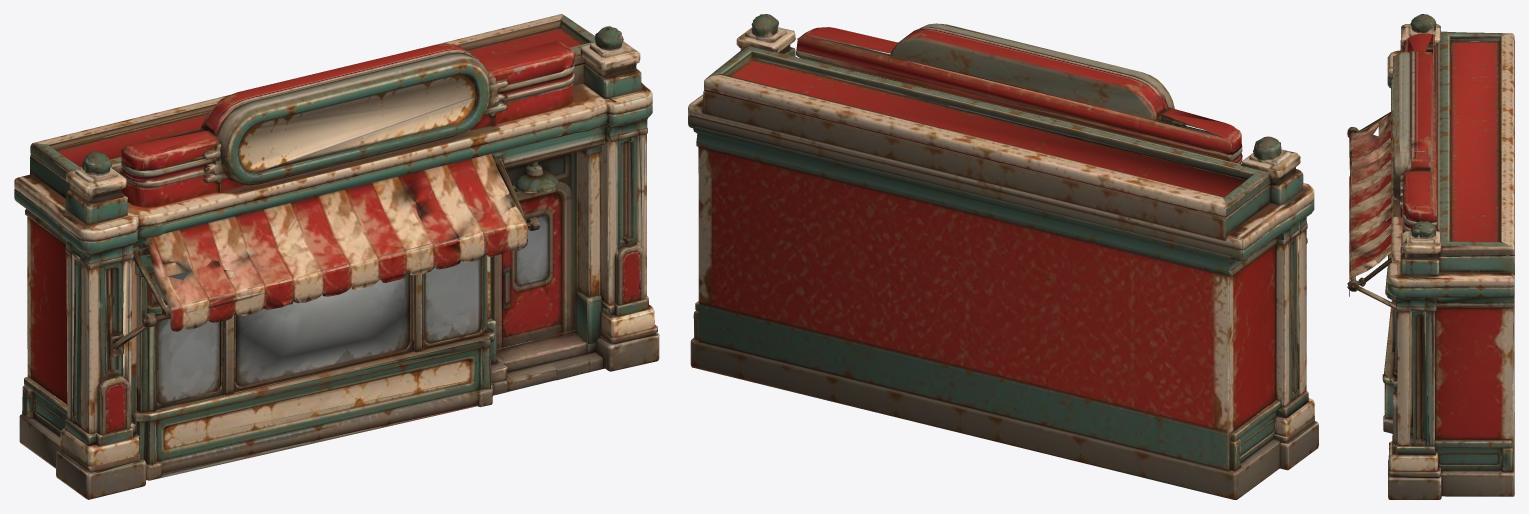
The model's file is town_shop_a.glb.
The picture shows the model from 3 angles, left to right: view 1: azimuth 30°, elevation 25°; view 2: azimuth 150°, elevation 25°; view 3: azimuth 270°, elevation 25°; orthographic projection. The views are drawn at different scales.
Size of the model in its own units: 0.9487 by 0.5488 by 0.2911.
1 material, 1 textured.
